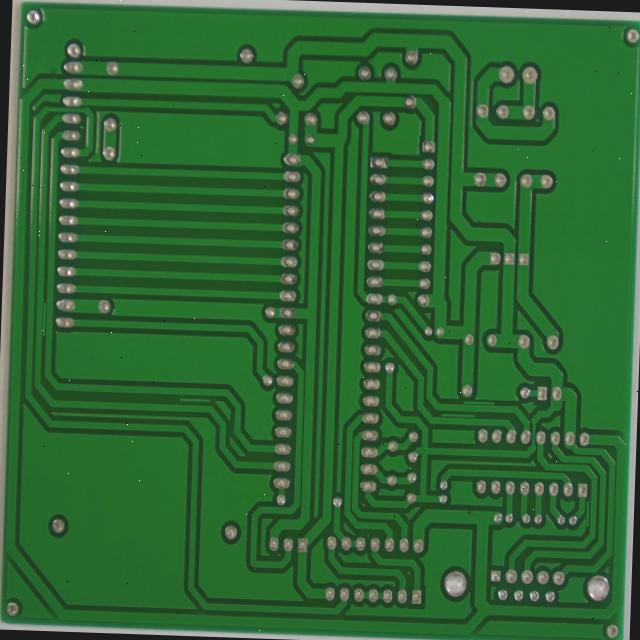spurious_copper: (489, 432, 530, 447), (467, 449, 508, 463), (39, 326, 51, 373), (185, 432, 224, 446), (621, 545, 631, 582)
